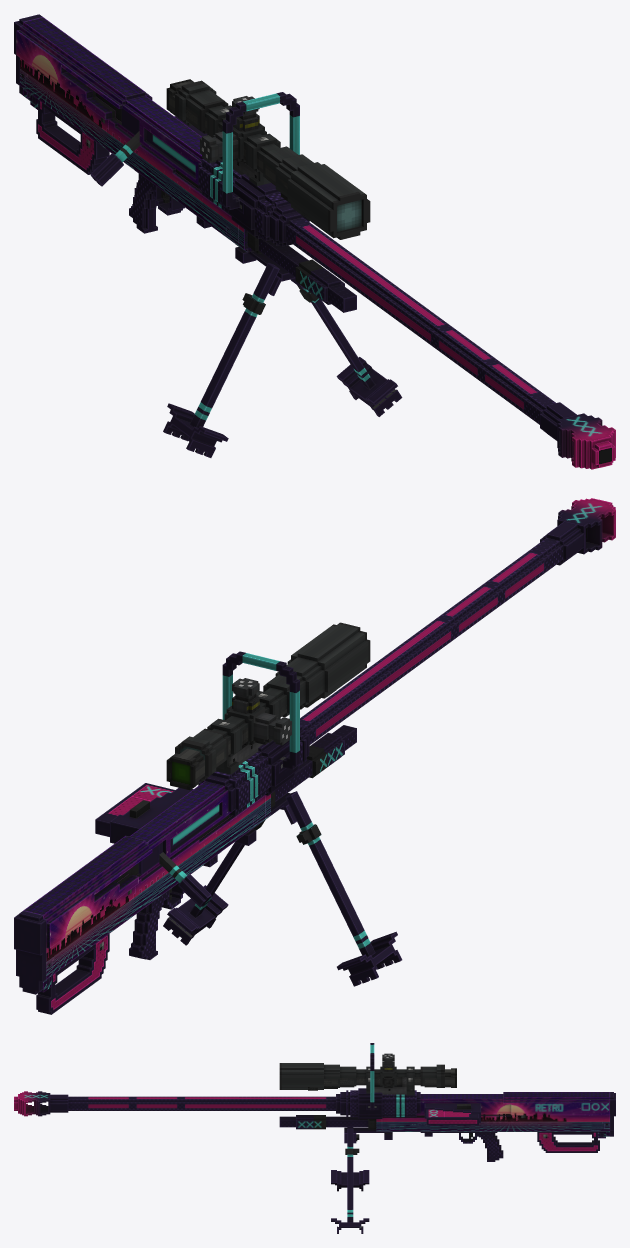
Rendered from RD_NTW20_RETRO.glb.
3 views of the same model, one above another, from view 1: azimuth 30°, elevation 25°; view 2: azimuth 150°, elevation 25°; view 3: azimuth 270°, elevation 25° (orthographic). The views are drawn at different scales.
Visible parts, largest first — view 1: NTW20, SCOPE_LEUPOLD_ULTRA, NTW20_DIPOD_LEG1, NTW20_DIPOD_LEG2, SCOPE_LEUPOLD, NTW20_BOLT_P2, NTW20_BOLT_P1; view 2: NTW20, SCOPE_LEUPOLD_ULTRA, NTW20_DIPOD_LEG1, SCOPE_LEUPOLD, NTW20_DIPOD_LEG2, NTW20_CLIP, NTW20_BOLT_P1, NTW20_BOLT_P2; view 3: NTW20, SCOPE_LEUPOLD_ULTRA, SCOPE_LEUPOLD, NTW20_DIPOD_LEG2, NTW20_CLIP, NTW20_DIPOD_LEG1.
Boxes of the visible parts, <box> form: NTW20: <box>14,14,615,469</box>; SCOPE_LEUPOLD_ULTRA: <box>175,80,370,239</box>; NTW20_DIPOD_LEG1: <box>163,263,279,457</box>; NTW20_DIPOD_LEG2: <box>297,285,402,416</box>; SCOPE_LEUPOLD: <box>166,79,309,220</box>; NTW20_BOLT_P2: <box>90,131,141,186</box>; NTW20_BOLT_P1: <box>121,108,195,175</box>; NTW20: <box>14,498,615,1014</box>; SCOPE_LEUPOLD_ULTRA: <box>175,622,370,781</box>; NTW20_DIPOD_LEG1: <box>285,791,402,986</box>; SCOPE_LEUPOLD: <box>166,690,335,790</box>; NTW20_DIPOD_LEG2: <box>163,819,265,945</box>; NTW20_CLIP: <box>95,783,174,836</box>; NTW20_BOLT_P1: <box>138,804,219,874</box>; NTW20_BOLT_P2: <box>159,852,211,907</box>; NTW20: <box>14,1043,615,1161</box>; SCOPE_LEUPOLD_ULTRA: <box>279,1053,444,1095</box>; SCOPE_LEUPOLD: <box>308,1062,456,1094</box>; NTW20_DIPOD_LEG2: <box>331,1128,369,1233</box>; NTW20_CLIP: <box>426,1109,478,1125</box>; NTW20_DIPOD_LEG1: <box>331,1127,369,1191</box>.
Size of the model in its own units: 0.63 by 0.8818 by 2.94.
Materials: 3 (3 with a texture image).
